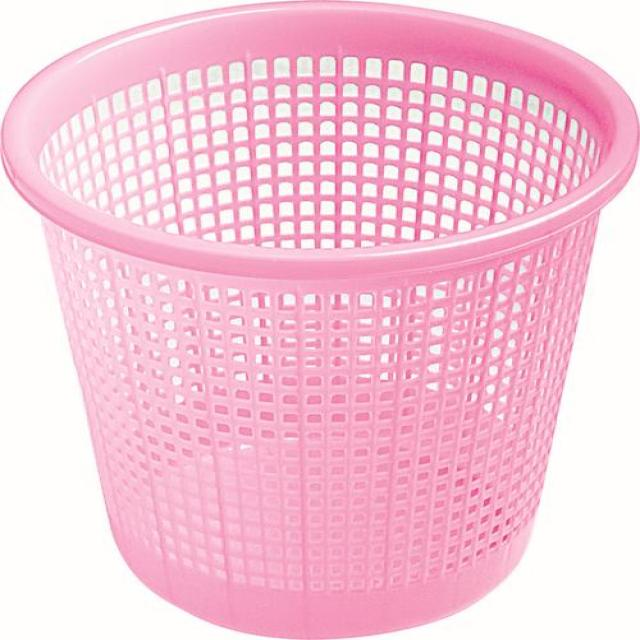dustbin: (2, 2, 640, 639)
